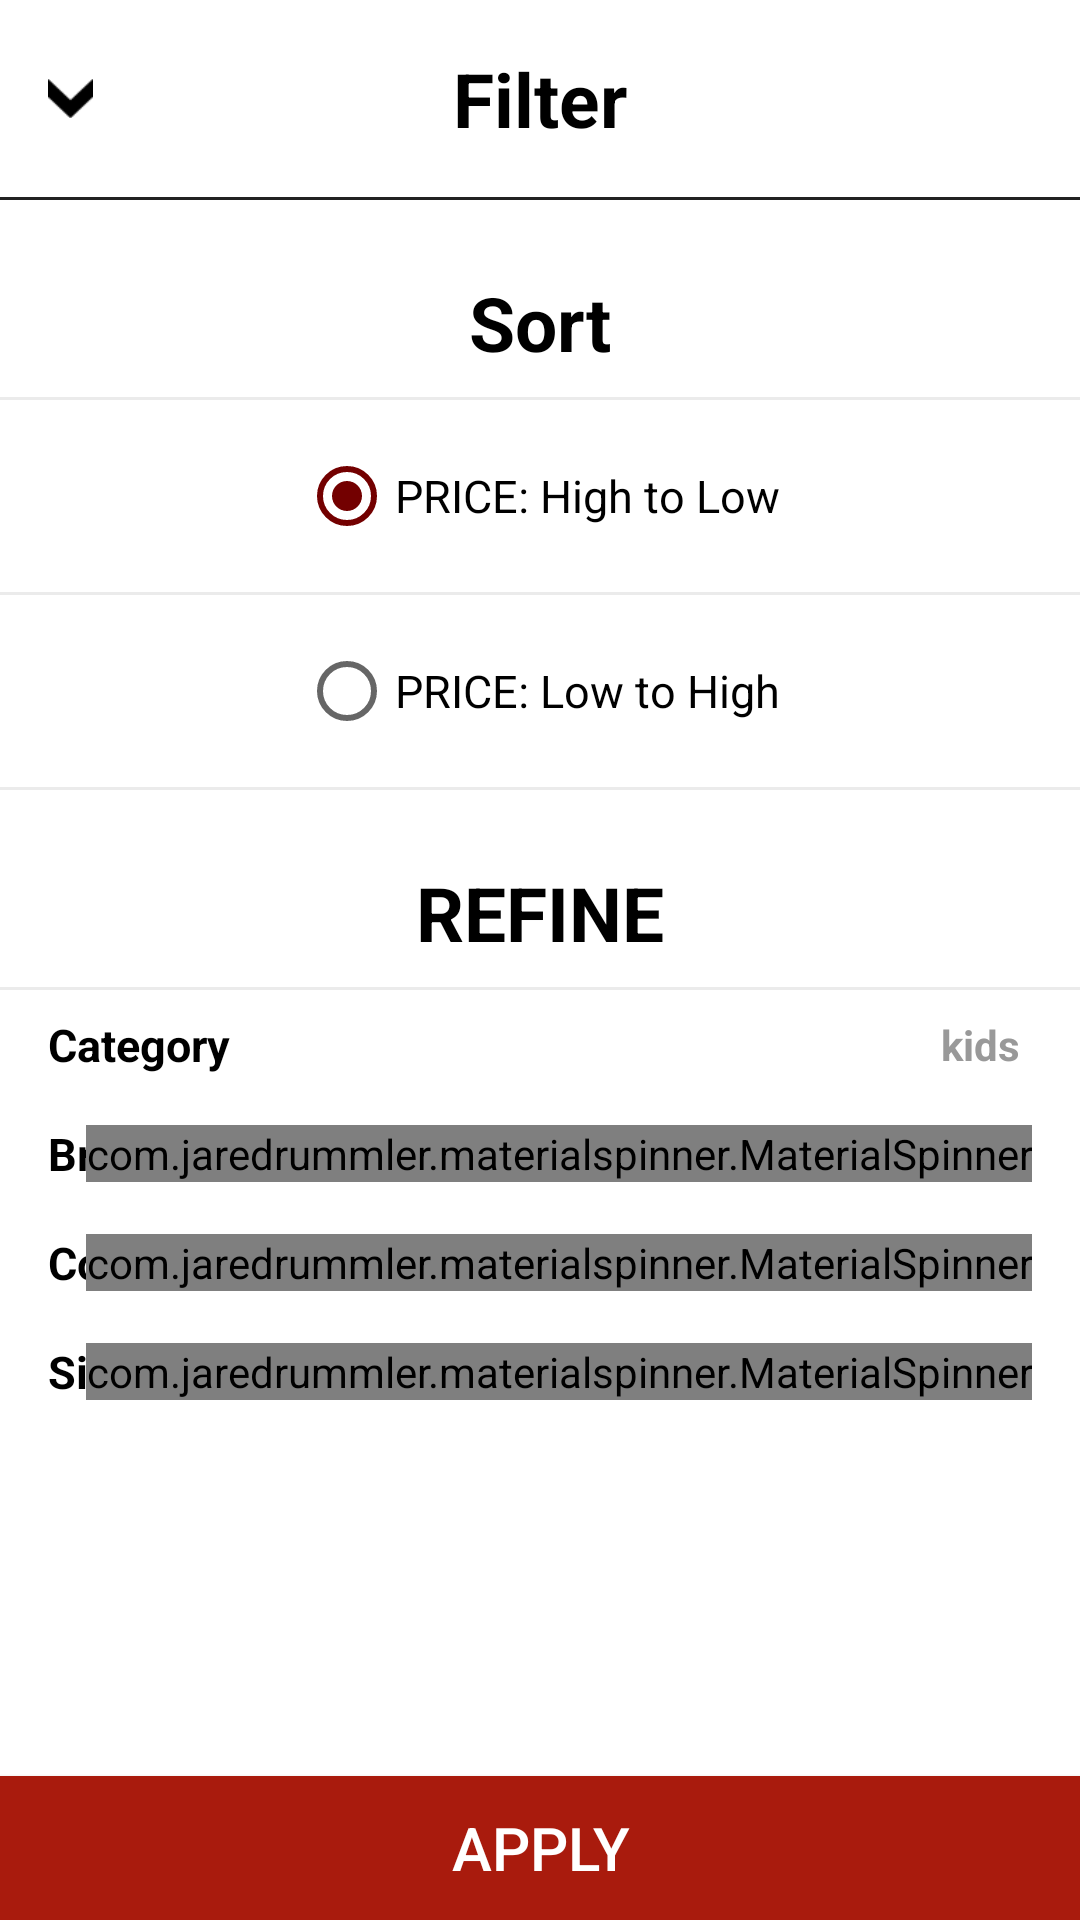

Where to tap for icons on this 1080x1920 app screen, as (x,y):
expand: (70,98)
